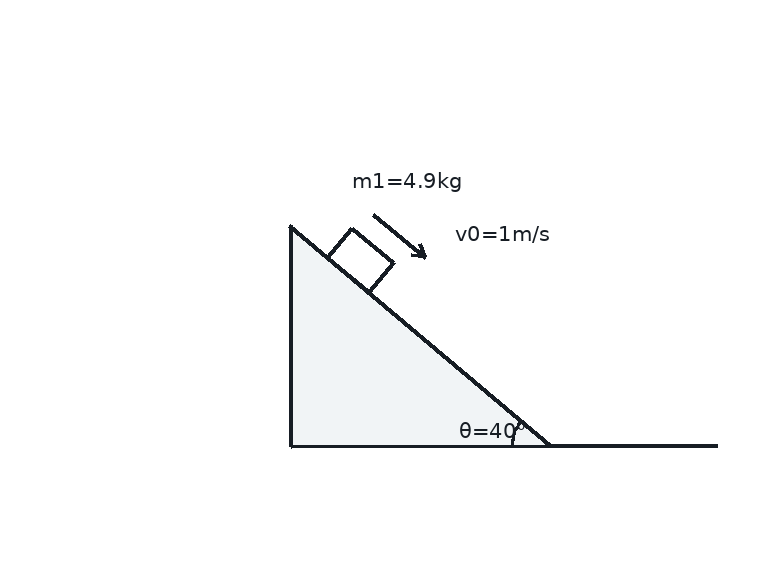block: (325, 225, 395, 294)
ramp: (288, 224, 554, 448)
